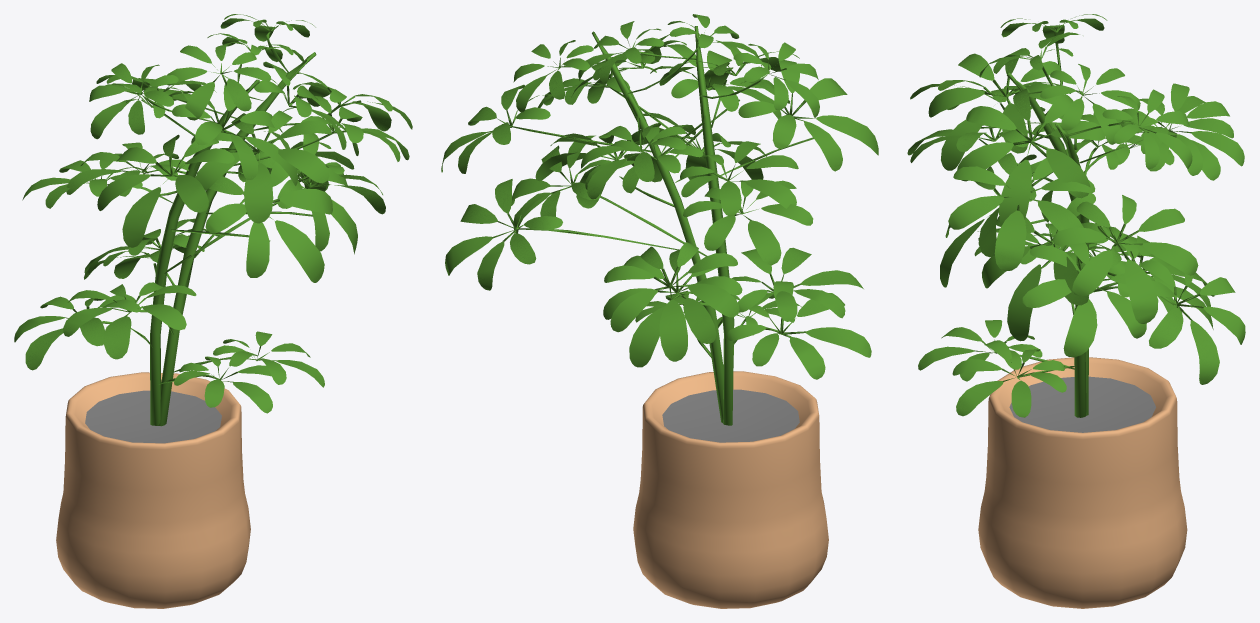
File: flower2.fbx
3 views of the same model, side by side, from view 1: azimuth 30°, elevation 25°; view 2: azimuth 150°, elevation 25°; view 3: azimuth 270°, elevation 25° (orthographic). The views are drawn at different scales.
Visible parts, largest first — view 1: flower1.001; view 2: flower1.001; view 3: flower1.001.
Part boxes in pixels (x1,y1,x2,y2): flower1.001: (14,14,412,608); flower1.001: (441,14,878,608); flower1.001: (907,14,1245,608).
Size of the model in its own units: 46.6 by 59.74 by 32.6.
